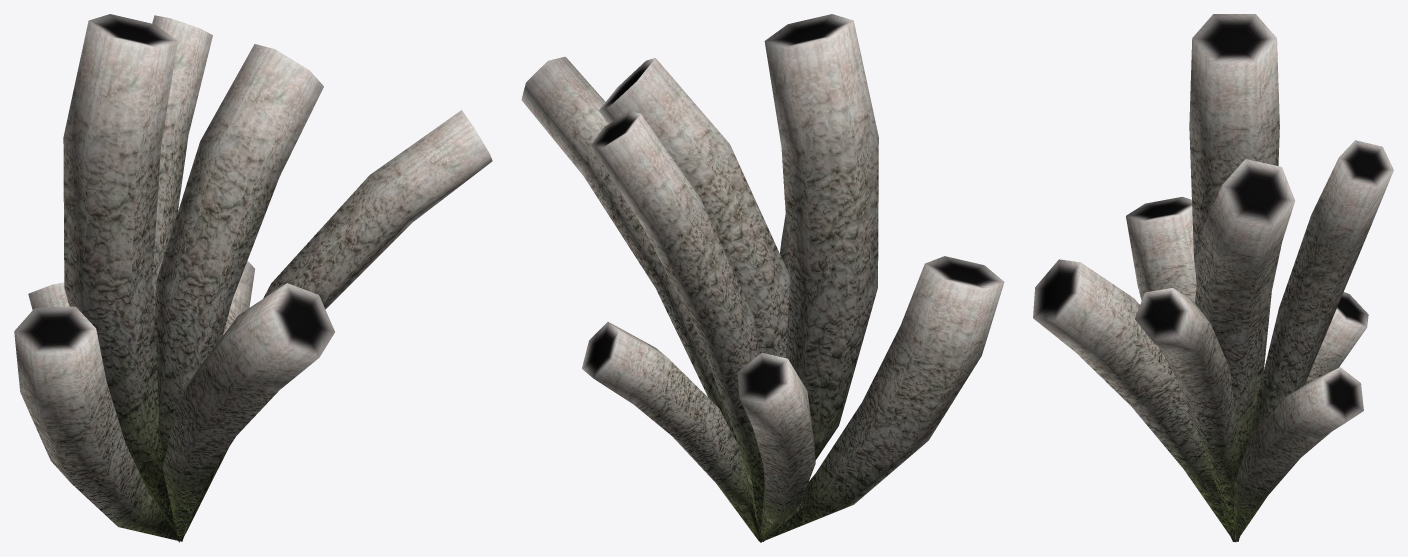
Rendered from FingerSponge01-transformed.glb.
3 renders of one model, left to right at view 1: azimuth 30°, elevation 25°; view 2: azimuth 150°, elevation 25°; view 3: azimuth 270°, elevation 25°, orthographic. The views are drawn at different scales.
Visible parts, largest first — view 1: FingerSponge01; view 2: FingerSponge01; view 3: FingerSponge01.
Part boxes in pixels (x1=…): FingerSponge01: x1=14, y1=14, x2=492, y2=542; FingerSponge01: x1=521, y1=14, x2=1004, y2=542; FingerSponge01: x1=1033, y1=14, x2=1393, y2=542.
Bounding box in the file's own units: 1.7 × 1.87 × 1.24.
1 material, 1 textured.
